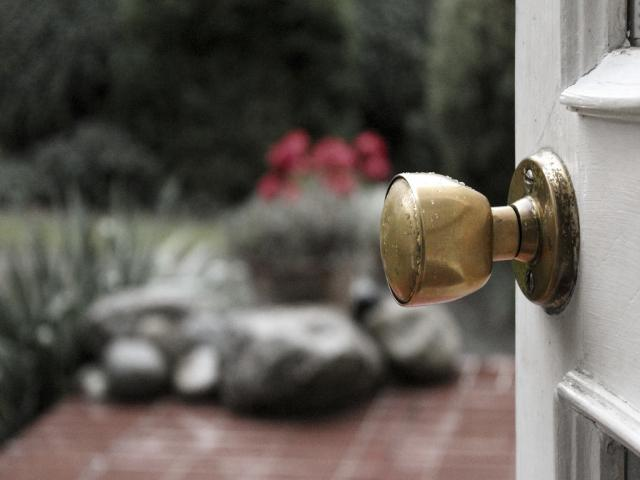Door-handle: (380, 148, 580, 314)
